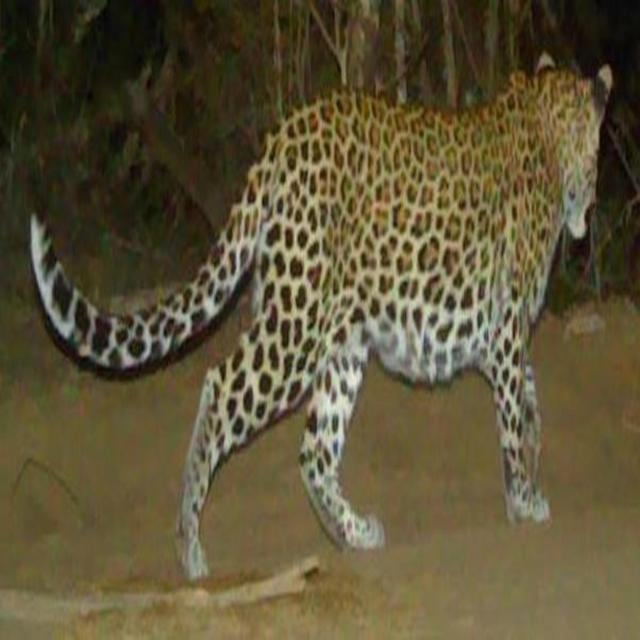Leopard: (7, 79, 607, 605)
